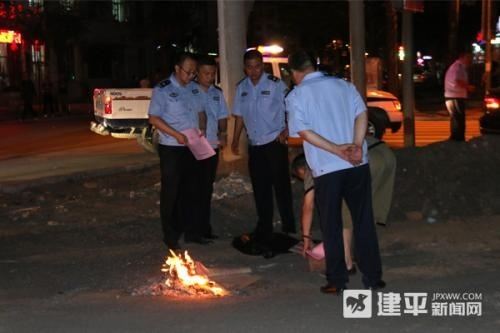fire: (159, 249, 226, 297)
